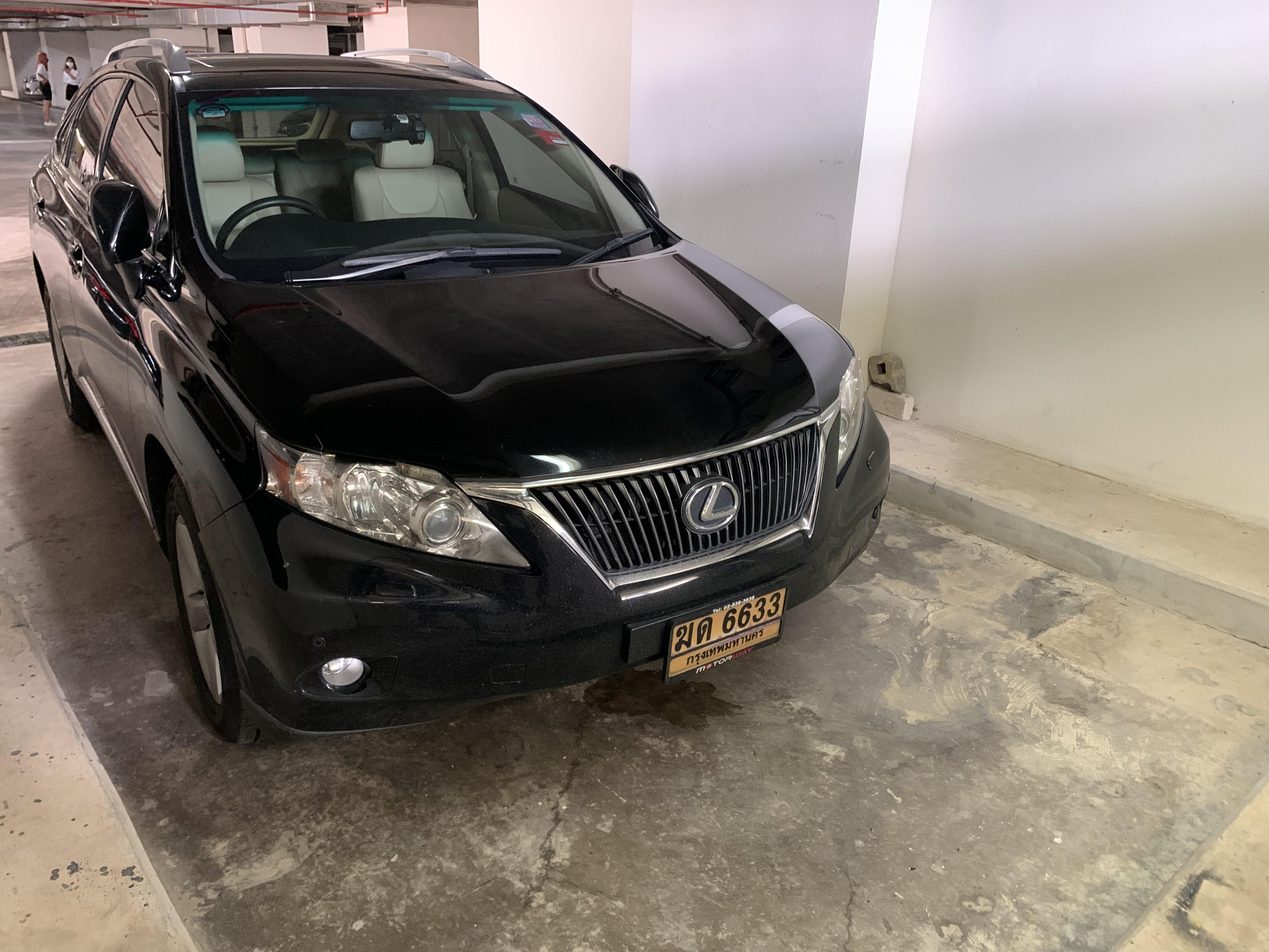license-plate: (664, 579, 798, 687)
